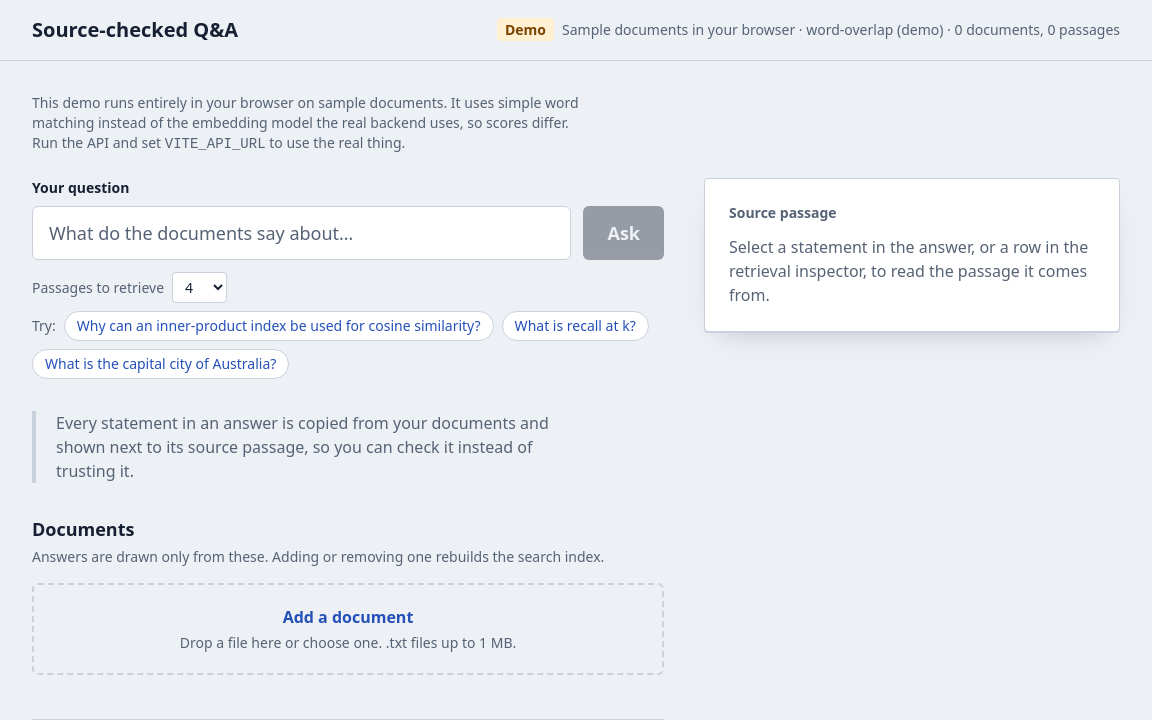
Test: asking a question › keeps Ask disabled until the question has at least three characters
Expected: the button "Ask" is disabled, [584,206,664,260]
Type "ab" into the field labelled "Your question".
click(302, 233); type("ab")  # box [32,206,572,260]
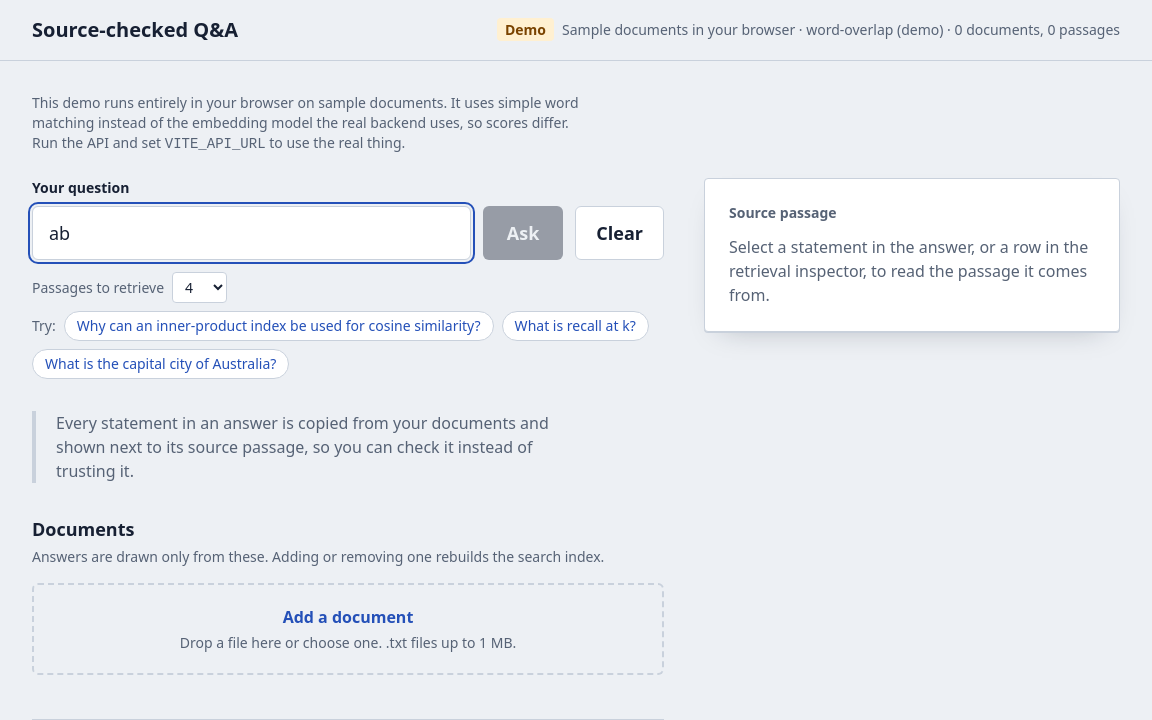
Expected: the button "Ask" is disabled, [483,206,563,260]
Type "c" into the field labelled "Your question".
click(251, 233); type("c")  # box [32,206,471,260]
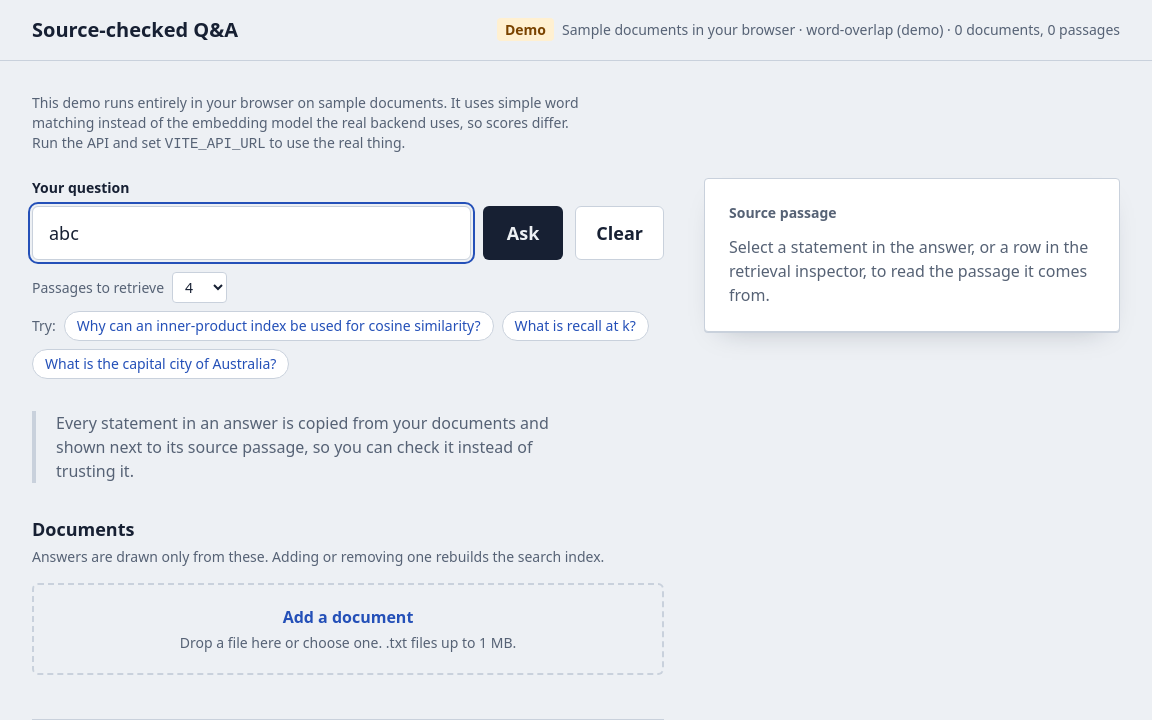
Expected: the button "Ask" is enabled, [483,206,563,260]
